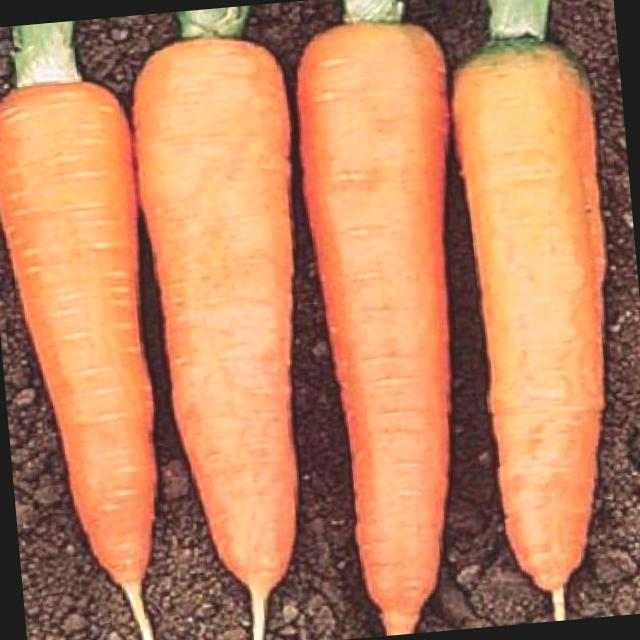carrot: (133, 39, 297, 640), (297, 22, 449, 635), (453, 42, 605, 620), (0, 81, 156, 640)
